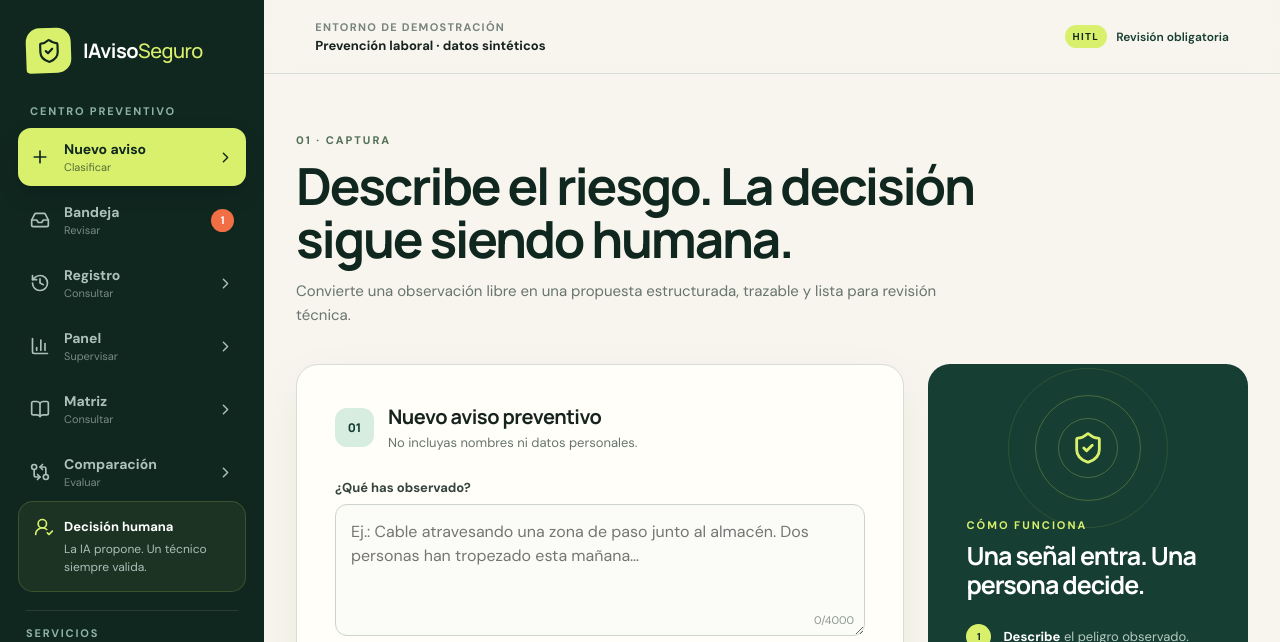
Test: IAviso Seguro › limita las correcciones humanas a los catálogos del backend
Click the button "Bandeja Revisar 1" at [132, 220], box left=18, top=191, right=246, bottom=249
(page scrolled)
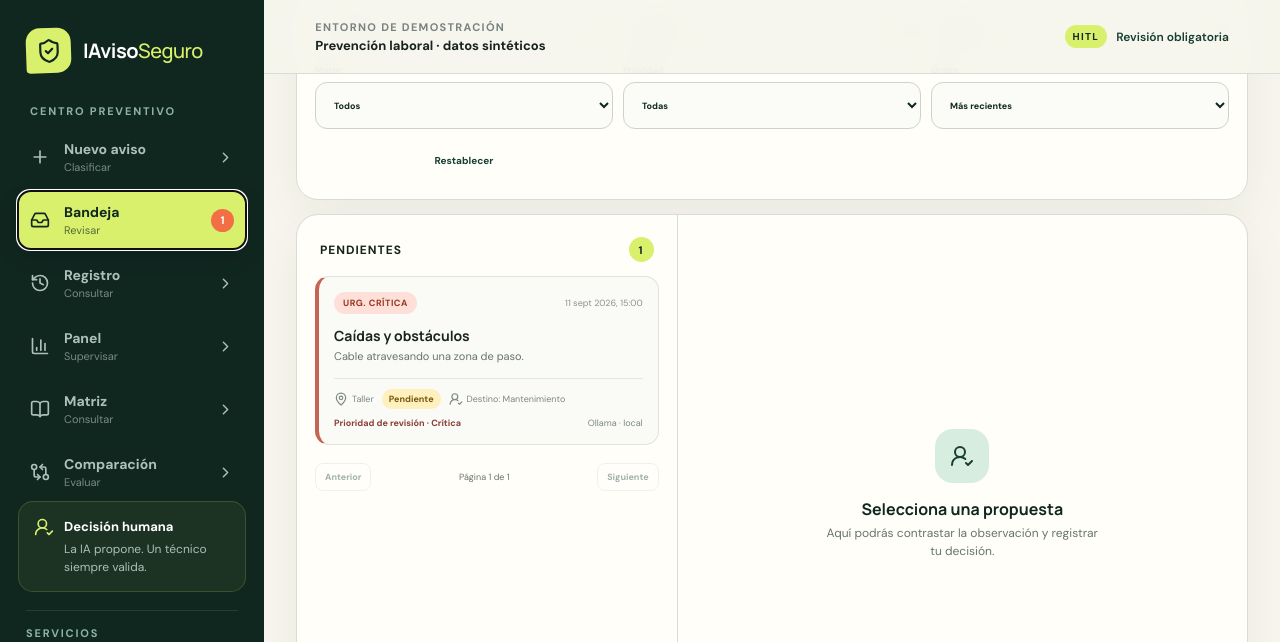
Click the button "Cable atravesando" at [487, 360], box left=315, top=276, right=659, bottom=445
(page scrolled)
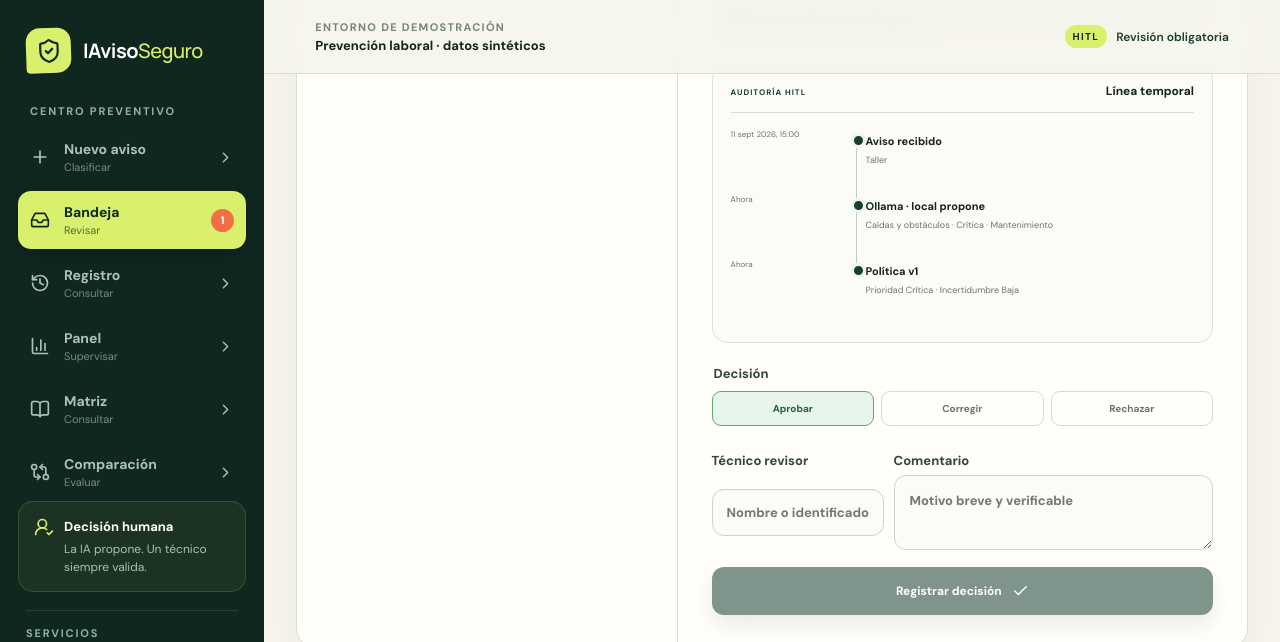
Result: the text "Auditoría HITL" is shown at left=731, top=87, right=806, bottom=97
Result: the text "Ollama · local propone" is shown at left=866, top=199, right=985, bottom=213
Click the radio button labelled "Corregir" at [962, 408], box left=881, top=391, right=1044, bottom=426
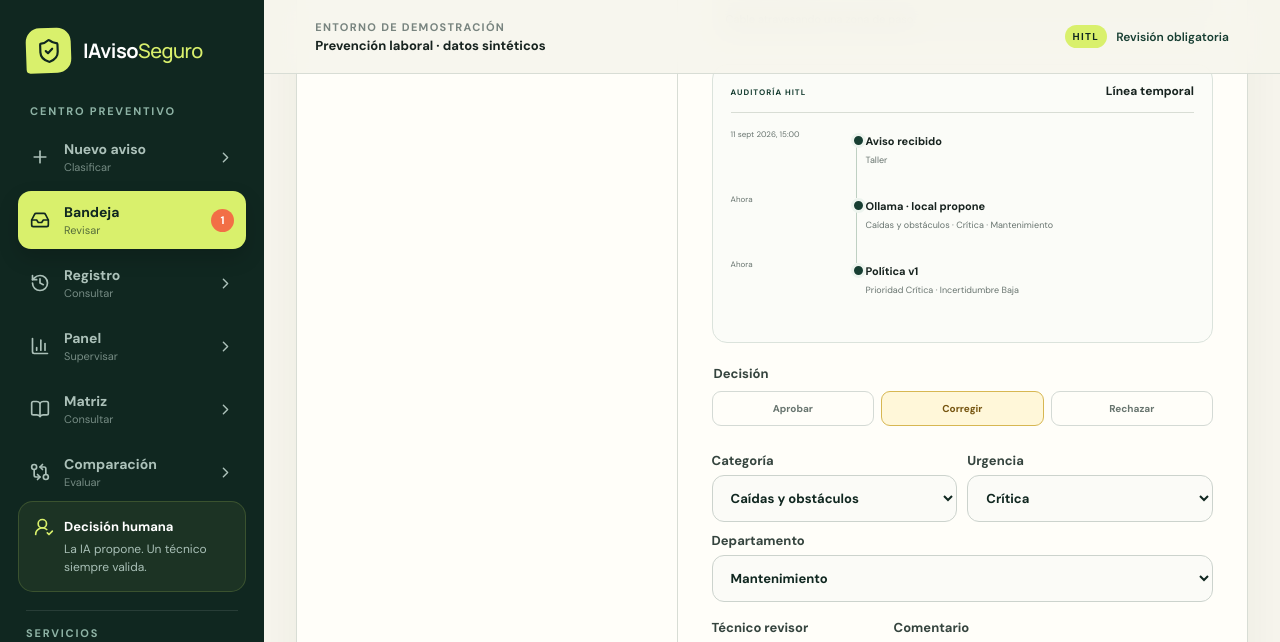
Result: the dropdown labelled "Categoría" shows "Caídas y obstáculos" at left=712, top=475, right=957, bottom=522
